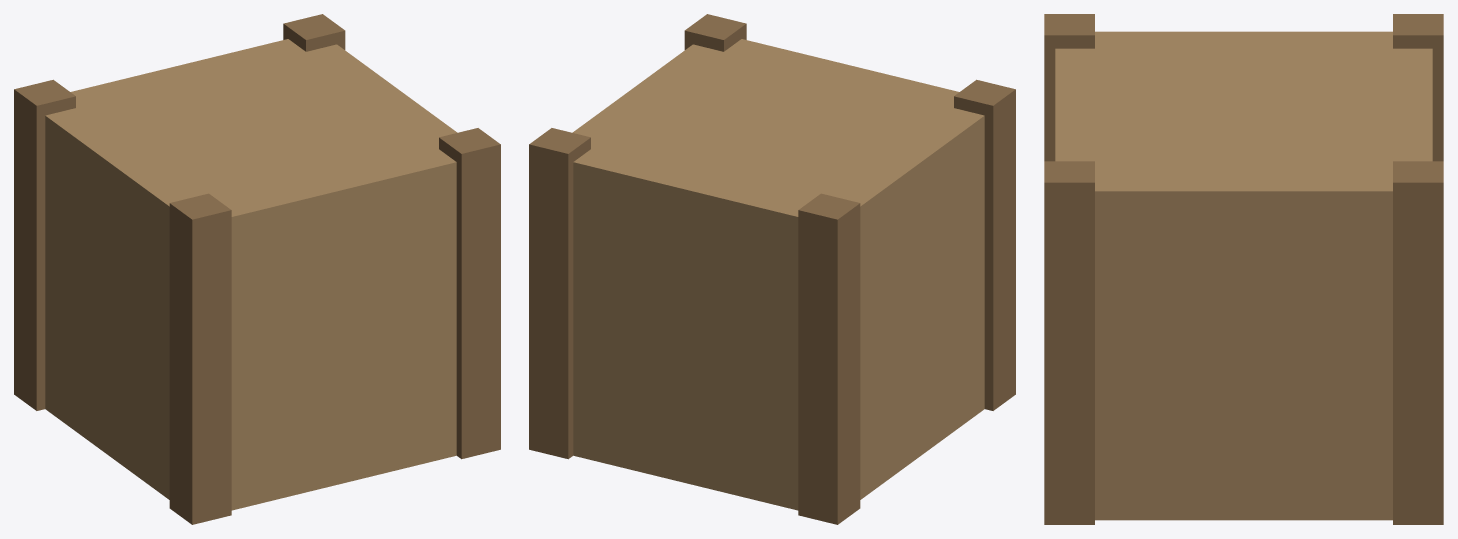
The model's file is prop_crate.glb.
3 views of the same model, side by side, from view 1: azimuth 30°, elevation 25°; view 2: azimuth 150°, elevation 25°; view 3: azimuth 270°, elevation 25° (orthographic). The views are drawn at different scales.
Visible parts, largest first — view 1: prop_crate; view 2: prop_crate; view 3: prop_crate.
Boxes of the visible parts, x1,y1,x2,y2 form: prop_crate: (14, 14, 500, 524); prop_crate: (529, 14, 1015, 524); prop_crate: (1044, 14, 1443, 524).
Size of the model in its own units: 0.55 by 0.52 by 0.55.
